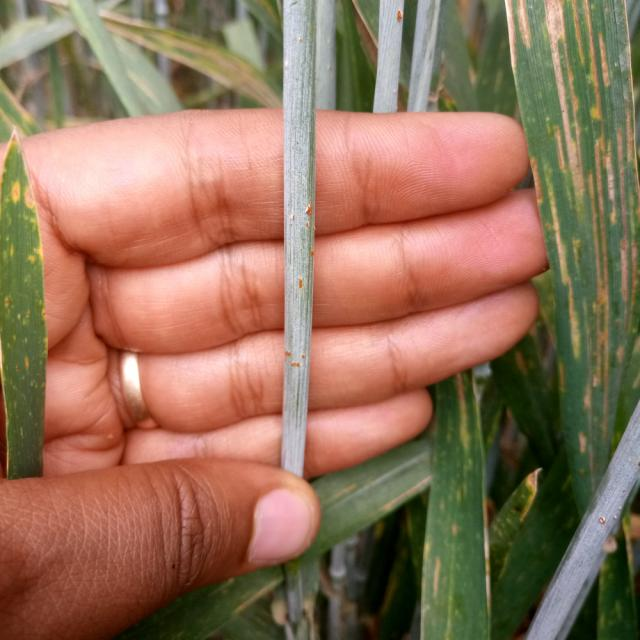wheat-stemrust: (284, 113, 310, 430)
